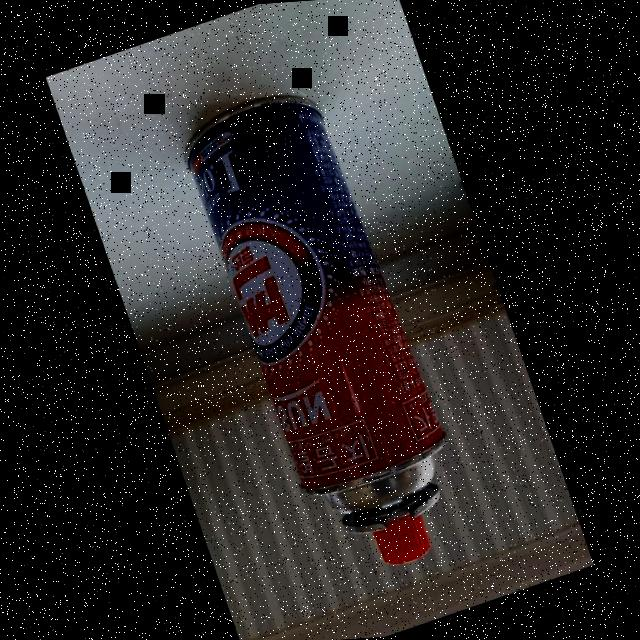chemical_spray_can: (149, 42, 504, 615)
